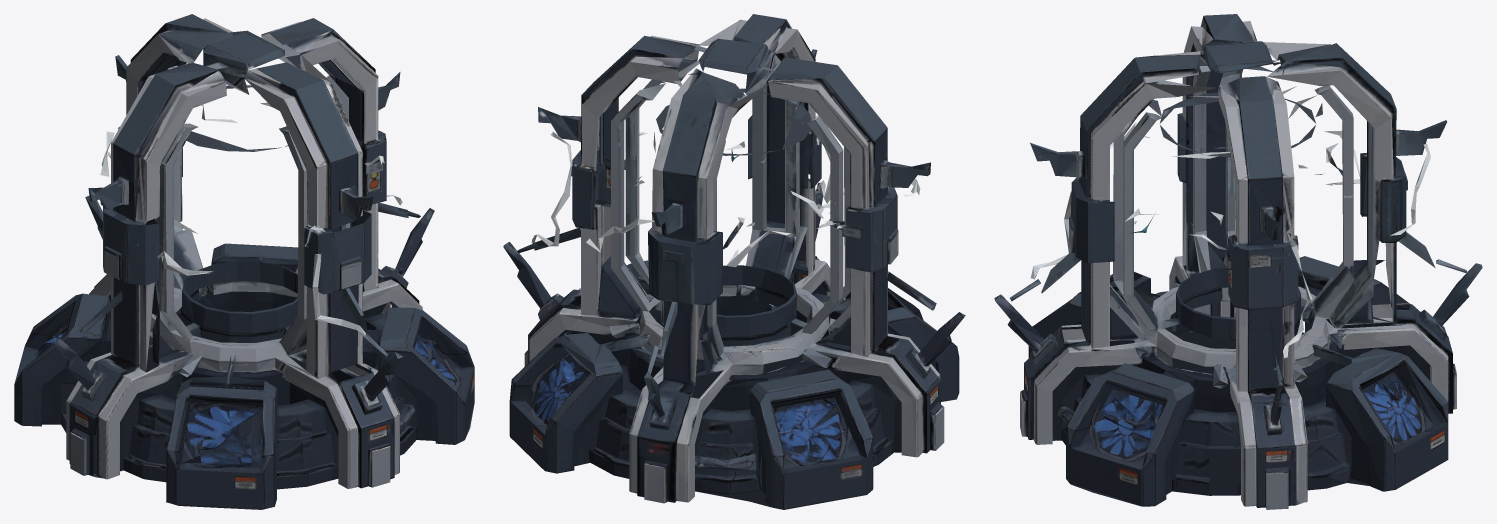
The model's file is generator.glb.
3 views of the same model, side by side, from view 1: azimuth 30°, elevation 25°; view 2: azimuth 150°, elevation 25°; view 3: azimuth 270°, elevation 25° (orthographic).
Parts seen in each view (by area): view 1: tripo_node_340897da-edbb-46a3-a129-a0253e9ca890; view 2: tripo_node_340897da-edbb-46a3-a129-a0253e9ca890; view 3: tripo_node_340897da-edbb-46a3-a129-a0253e9ca890.
Boxes of the visible parts, <box> form: tripo_node_340897da-edbb-46a3-a129-a0253e9ca890: <box>14,14,474,509</box>; tripo_node_340897da-edbb-46a3-a129-a0253e9ca890: <box>503,14,965,509</box>; tripo_node_340897da-edbb-46a3-a129-a0253e9ca890: <box>994,14,1482,509</box>.
Size of the model in its own units: 0.9961 by 0.8239 by 1.
Materials: 1 (1 with a texture image).
